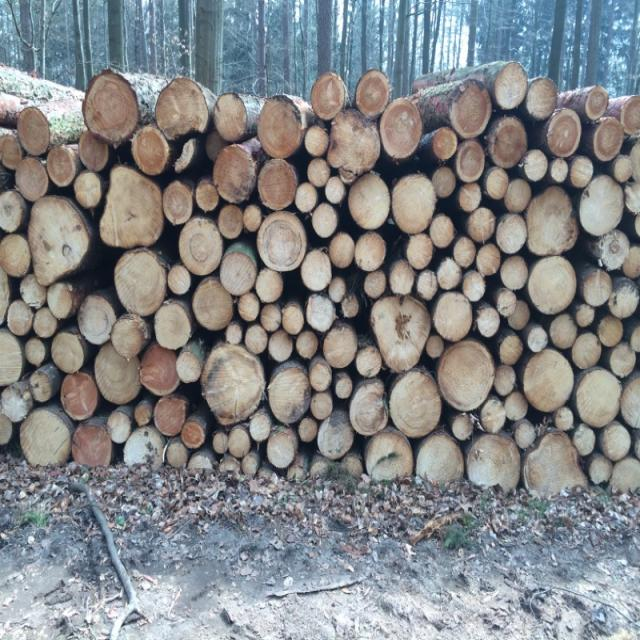wood-log: (27, 197, 87, 286), (101, 166, 166, 248), (201, 341, 265, 422), (368, 296, 430, 374), (525, 429, 585, 495), (437, 338, 492, 408), (389, 371, 445, 439), (82, 72, 136, 142), (526, 185, 578, 254), (115, 249, 168, 315), (153, 81, 211, 139), (521, 350, 573, 412), (19, 408, 72, 468), (466, 434, 521, 491), (328, 115, 380, 174), (96, 340, 144, 403), (257, 210, 307, 269), (527, 256, 576, 314), (576, 175, 623, 234), (268, 363, 312, 424), (393, 175, 438, 234), (576, 370, 623, 426), (214, 146, 259, 204), (414, 433, 462, 487), (180, 216, 224, 274), (260, 101, 304, 159), (347, 174, 391, 231), (381, 103, 424, 159), (348, 378, 388, 438), (138, 343, 181, 396), (452, 88, 494, 140), (192, 279, 233, 331), (258, 160, 298, 210), (433, 293, 473, 341), (488, 120, 528, 168), (60, 371, 99, 420), (78, 294, 115, 345), (219, 250, 258, 298), (154, 300, 192, 349), (132, 125, 170, 174), (73, 422, 112, 469), (317, 412, 355, 459), (17, 106, 52, 154), (112, 315, 151, 358), (313, 72, 349, 118), (494, 66, 530, 111), (548, 111, 583, 157), (213, 96, 247, 143), (322, 326, 357, 369), (15, 156, 49, 200), (125, 430, 164, 468), (52, 332, 88, 373), (300, 250, 332, 293), (266, 429, 299, 470), (162, 182, 192, 226), (156, 396, 188, 437), (599, 230, 630, 272), (594, 118, 624, 161), (78, 131, 110, 171), (526, 79, 558, 119), (454, 141, 484, 183), (354, 232, 386, 271), (0, 233, 29, 276), (0, 329, 22, 385), (497, 215, 528, 254), (47, 147, 77, 187), (600, 424, 632, 461), (571, 334, 603, 370), (306, 295, 337, 332), (0, 387, 31, 424), (584, 268, 613, 307), (609, 283, 640, 319), (466, 206, 496, 243), (73, 170, 103, 207), (46, 282, 76, 318), (0, 191, 25, 234), (609, 341, 638, 377), (551, 313, 580, 348), (501, 256, 530, 291), (621, 376, 640, 428), (6, 301, 34, 336), (329, 232, 356, 268), (480, 398, 506, 435), (256, 268, 285, 301), (406, 234, 434, 268), (311, 203, 338, 238), (218, 203, 245, 238), (614, 456, 640, 492), (430, 214, 457, 248), (388, 262, 415, 296), (507, 177, 533, 212), (477, 245, 504, 278), (506, 298, 533, 331), (20, 274, 47, 306), (434, 128, 460, 161), (308, 357, 332, 392), (355, 346, 382, 377), (596, 316, 622, 348), (106, 410, 132, 442), (268, 330, 294, 362), (522, 150, 548, 182), (498, 332, 524, 364), (437, 260, 463, 292), (195, 181, 220, 214), (461, 270, 487, 301), (306, 124, 331, 156), (432, 167, 458, 197), (0, 136, 22, 171), (486, 168, 510, 200), (574, 423, 597, 456), (179, 422, 205, 451), (502, 392, 528, 421), (476, 308, 501, 338), (34, 307, 58, 338), (168, 265, 192, 296), (452, 237, 476, 268), (296, 183, 320, 214), (621, 96, 640, 134), (245, 324, 269, 354), (250, 412, 274, 442), (572, 158, 596, 188), (515, 418, 539, 448), (365, 270, 388, 300), (238, 292, 260, 323), (230, 427, 252, 458), (493, 365, 515, 396), (458, 184, 482, 212), (589, 455, 612, 484), (297, 329, 319, 359), (282, 304, 304, 334), (308, 158, 331, 186), (416, 271, 438, 300), (168, 440, 189, 470), (311, 393, 334, 420), (26, 339, 48, 367), (452, 411, 473, 440), (31, 370, 50, 402), (324, 175, 345, 203), (261, 304, 282, 332), (614, 155, 634, 184), (574, 303, 597, 328), (623, 248, 640, 281), (0, 266, 10, 322), (526, 326, 548, 351), (551, 159, 571, 185), (300, 416, 320, 442), (424, 334, 444, 360), (625, 180, 640, 214), (328, 278, 348, 303), (244, 204, 262, 231), (341, 294, 360, 318), (556, 406, 574, 430), (336, 374, 354, 398), (227, 324, 245, 346), (0, 413, 12, 446), (134, 403, 150, 427), (242, 453, 258, 477), (213, 432, 228, 457), (631, 327, 640, 354)
